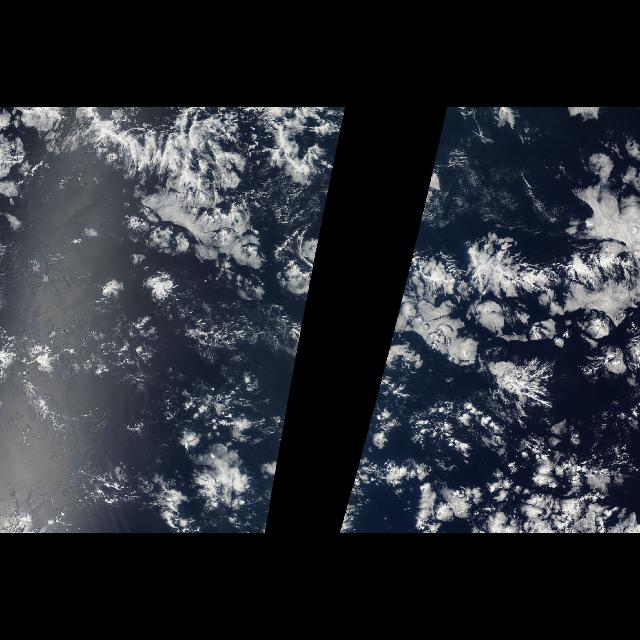Flower: (379, 223, 621, 383), (236, 223, 324, 383)
